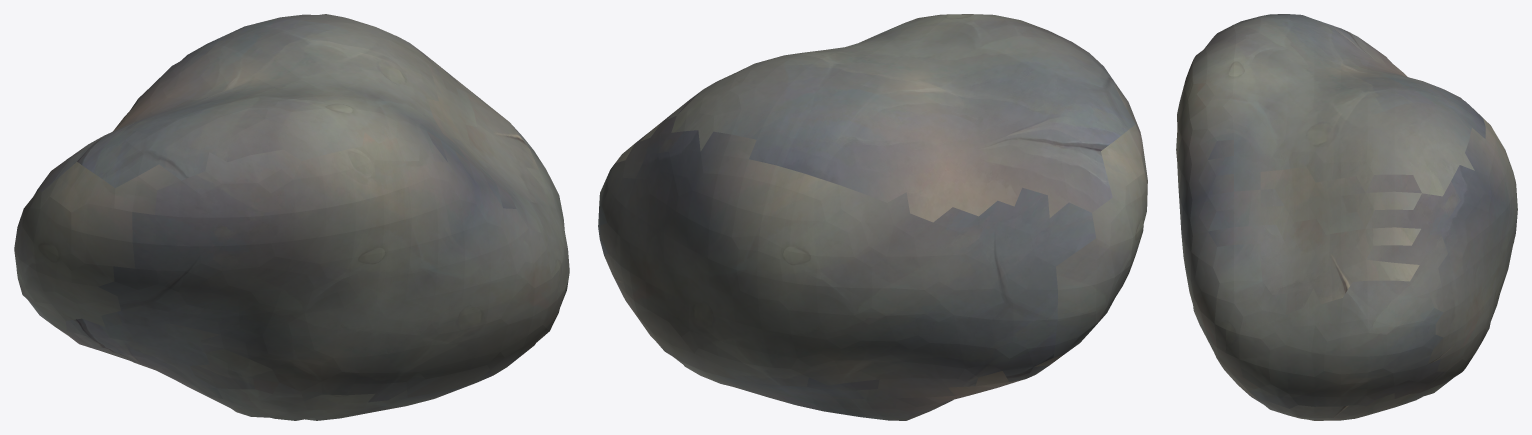
The model's file is stone1.glb.
3 renders of one model, left to right at view 1: azimuth 30°, elevation 25°; view 2: azimuth 150°, elevation 25°; view 3: azimuth 270°, elevation 25°, orthographic. The views are drawn at different scales.
Parts seen in each view (by area): view 1: stone1_stone_LOD0; view 2: stone1_stone_LOD0; view 3: stone1_stone_LOD0.
Part boxes in pixels (bbox=[...]): stone1_stone_LOD0: bbox=[14, 14, 569, 420]; stone1_stone_LOD0: bbox=[598, 14, 1147, 420]; stone1_stone_LOD0: bbox=[1176, 14, 1517, 420].
Size of what is drawn, in the model's own units: 0.589 by 0.3858 by 0.4025.
Materials: 1 (1 with a texture image).
